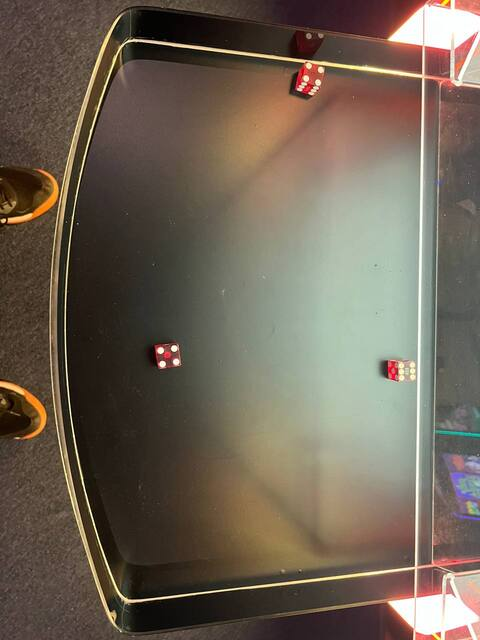four: (152, 340, 185, 373), (296, 59, 329, 89)
six: (394, 357, 418, 384)
